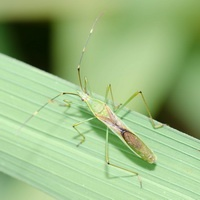insect: (19, 13, 163, 188)
